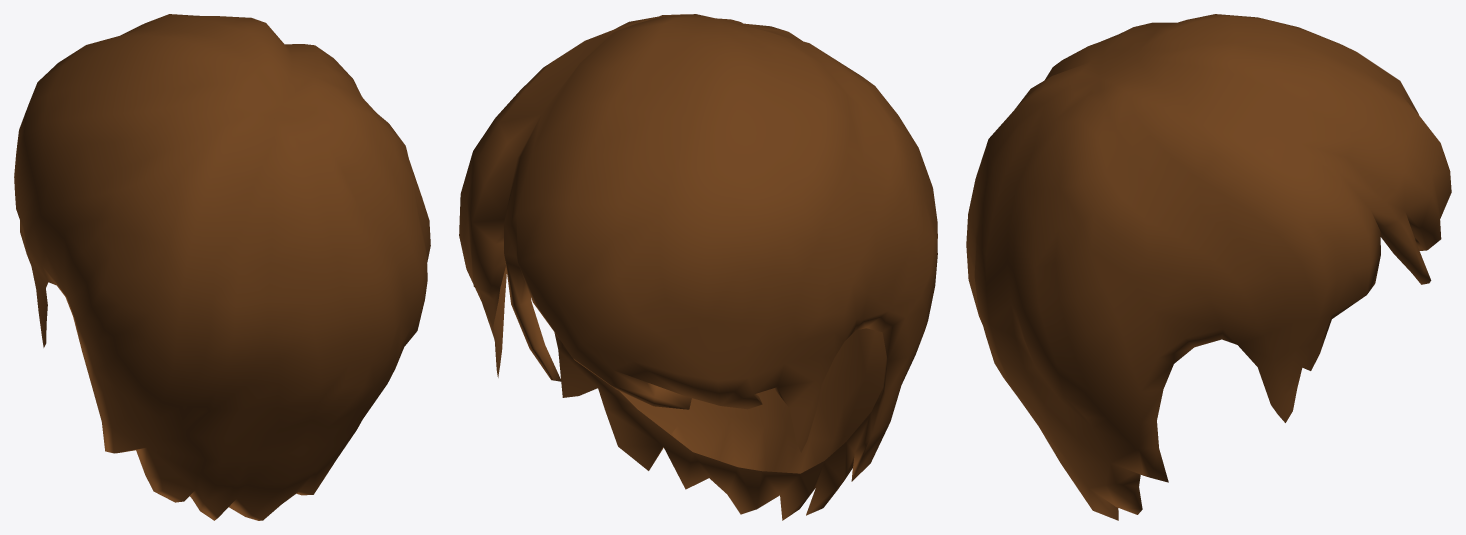
File: Hair_Male_004.glb
3 renders of one model, left to right at view 1: azimuth 30°, elevation 25°; view 2: azimuth 150°, elevation 25°; view 3: azimuth 270°, elevation 25°, orthographic. The views are drawn at different scales.
Visible parts, largest first — view 1: Hair_Male_004; view 2: Hair_Male_004; view 3: Hair_Male_004.
Boxes of the visible parts, <box> form: Hair_Male_004: <box>14,14,430,520</box>; Hair_Male_004: <box>459,14,937,520</box>; Hair_Male_004: <box>966,14,1451,520</box>.
Size of the model in its own units: 0.189 by 0.2477 by 0.2273.
